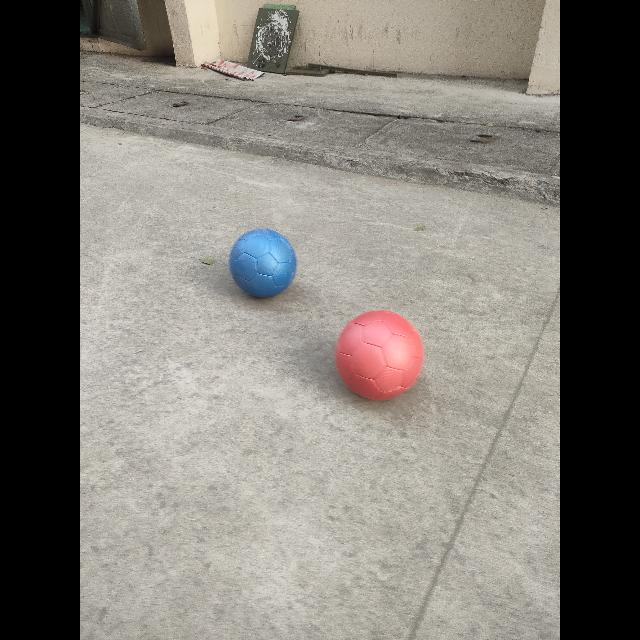B: (229, 228, 297, 300)
R: (334, 310, 424, 402)
